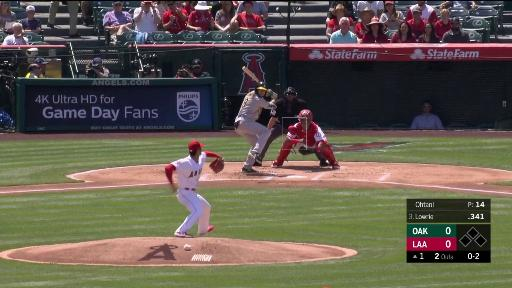pitcher: (166, 141, 230, 238)
